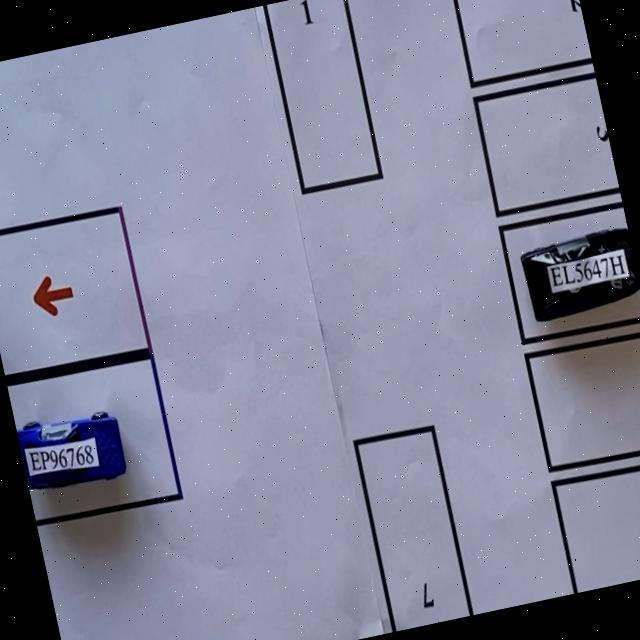car: (517, 222, 640, 328), (15, 401, 134, 500)
